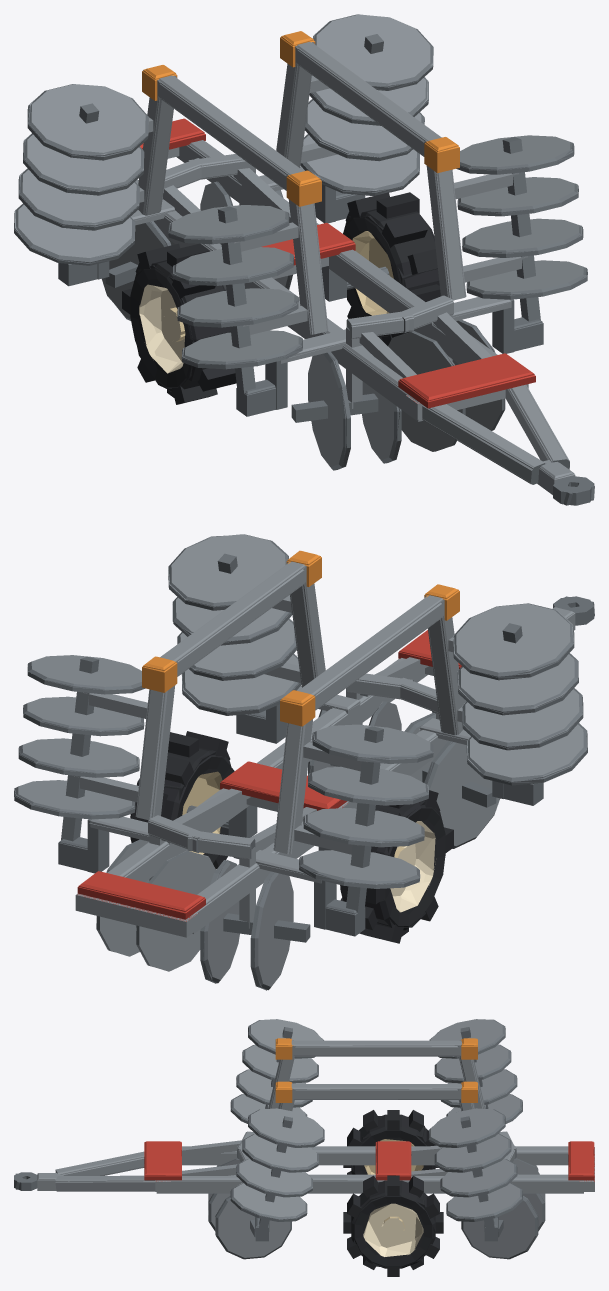
The model's file is FMS_Mach_DiscHarrow.fbx.
3 renders of one model, top to bottom at view 1: azimuth 30°, elevation 25°; view 2: azimuth 150°, elevation 25°; view 3: azimuth 270°, elevation 25°, orthographic. The views are drawn at different scales.
Visible parts, largest first — view 1: Wing_R, Frame, Wing_L, Frame_Low1, Wheel_R, Wheel_L, Wing_R_Low1, Wing_L_Low1, Wheel_R_Low1, Wheel_L_Low1; view 2: Wing_R, Frame, Wing_L, Frame_Low1, Wing_L_Low1, Wing_R_Low1, Wheel_R, Wheel_L, Wheel_R_Low1, Wheel_L_Low1; view 3: Frame, Wing_L, Wing_R, Wheel_L, Frame_Low1, Wheel_R, Wheel_L_Low1, Wing_L_Low1, Wing_R_Low1, Wheel_R_Low1.
Boxes of the visible parts, x1,y1,x2,y2 form: Wing_R: (14, 65, 327, 416); Frame: (97, 118, 594, 505); Wing_L: (276, 14, 587, 351); Frame_Low1: (97, 119, 594, 505); Wheel_R: (122, 243, 236, 404); Wheel_L: (343, 192, 440, 345); Wing_R_Low1: (15, 65, 328, 394); Wing_L_Low1: (276, 14, 586, 329); Wheel_R_Low1: (136, 244, 235, 404); Wheel_L_Low1: (346, 192, 439, 338); Wing_R: (273, 584, 587, 936); Frame: (75, 596, 594, 990); Wing_L: (14, 534, 325, 871); Frame_Low1: (75, 596, 594, 990); Wing_L_Low1: (14, 535, 325, 848); Wing_R_Low1: (273, 584, 587, 913); Wheel_R: (340, 790, 453, 943); Wheel_L: (130, 731, 232, 869); Wheel_R_Low1: (340, 790, 453, 940); Wheel_L_Low1: (135, 731, 234, 866); Frame: (14, 1131, 594, 1259); Wing_L: (230, 1081, 522, 1241); Wing_R: (230, 1019, 522, 1123); Wheel_L: (343, 1175, 443, 1276); Frame_Low1: (15, 1132, 594, 1259); Wheel_R: (343, 1110, 437, 1174); Wheel_L_Low1: (343, 1175, 442, 1269); Wing_L_Low1: (230, 1082, 522, 1229); Wing_R_Low1: (230, 1019, 522, 1123); Wheel_R_Low1: (343, 1110, 437, 1174).
Size of the model in its own units: 2.6 by 1.73 by 5.22.
1 material, 1 textured.
